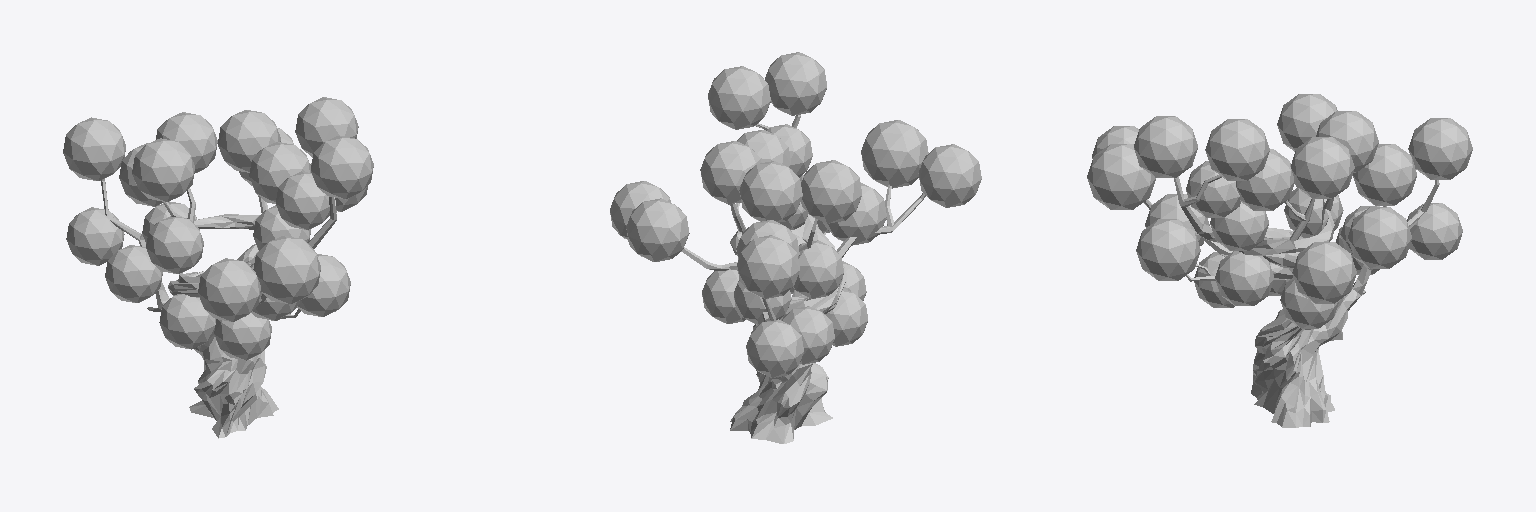
Rendered from big_fabulous_tree_001.obj.
3 views of the same model, side by side, from view 1: azimuth 30°, elevation 25°; view 2: azimuth 150°, elevation 25°; view 3: azimuth 270°, elevation 25° (orthographic).
Visible parts, largest first — view 1: big_fabulous_tree_001; view 2: big_fabulous_tree_001; view 3: big_fabulous_tree_001.
Boxes of the visible parts, box(x1,y1,x2,y2) form: big_fabulous_tree_001: box(63, 97, 373, 438); big_fabulous_tree_001: box(610, 52, 981, 443); big_fabulous_tree_001: box(1087, 94, 1472, 427).
Size of the model in its own units: 8.65 by 10.08 by 11.04.